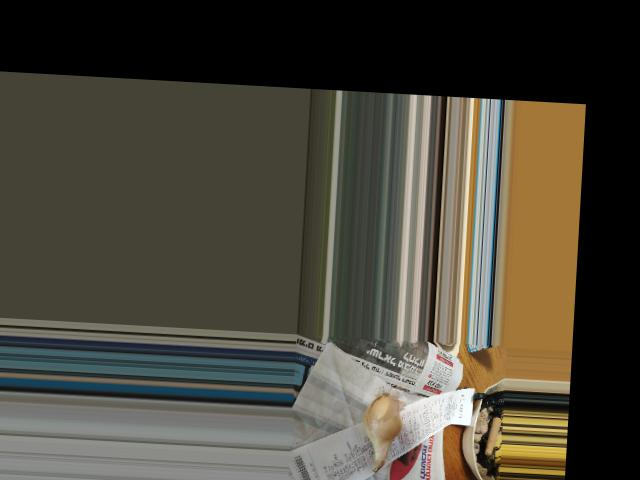onion: (364, 394, 400, 455)
